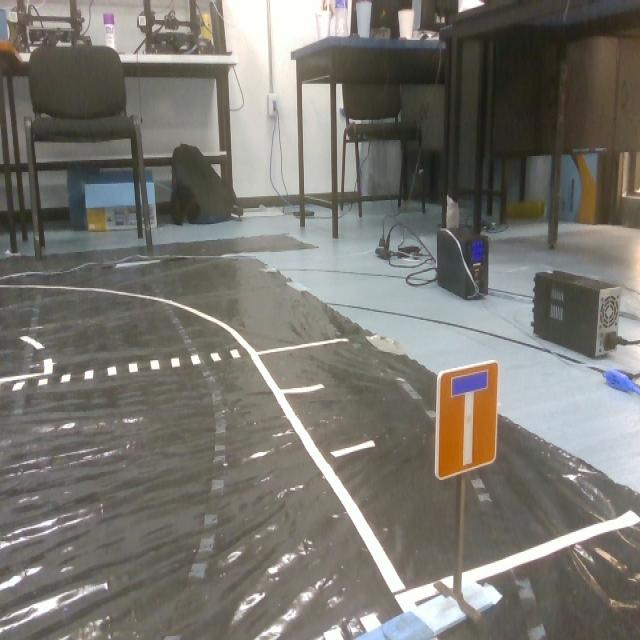stop: (428, 356, 507, 476)
